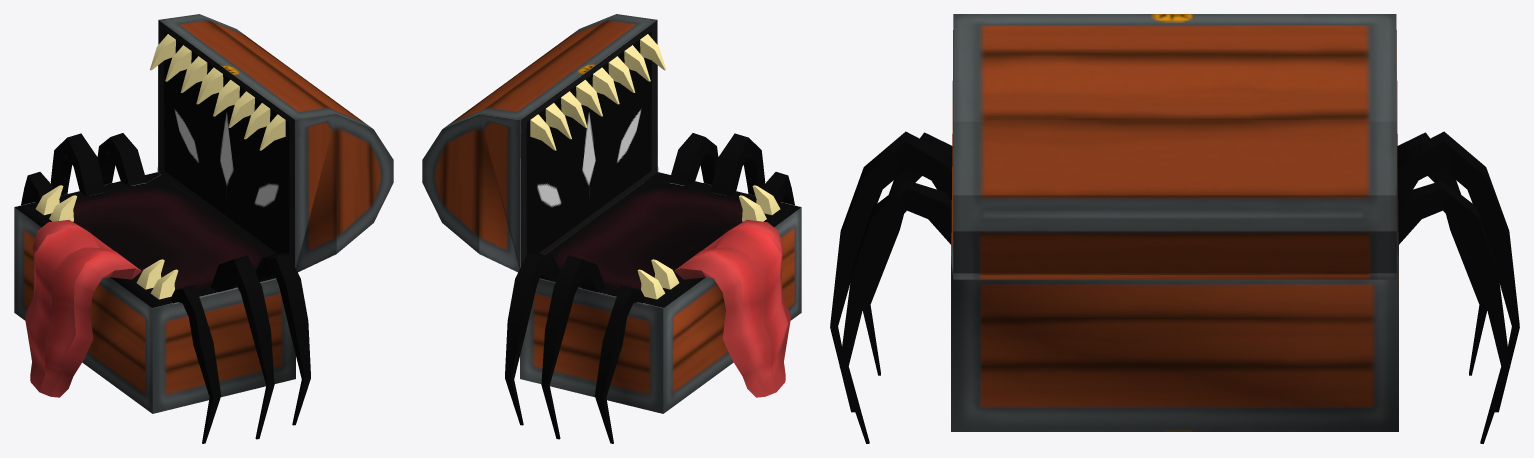
File: cofrearana_000070.obj
3 renders of one model, left to right at view 1: azimuth 30°, elevation 25°; view 2: azimuth 150°, elevation 25°; view 3: azimuth 270°, elevation 25°, orthographic. The views are drawn at different scales.
Parts seen in each view (by area): view 1: cofreArana:Mesh; view 2: cofreArana:Mesh; view 3: cofreArana:Mesh.
Boxes of the visible parts, x1=… form: cofreArana:Mesh: x1=14, y1=14, x2=393, y2=443; cofreArana:Mesh: x1=422, y1=14, x2=801, y2=443; cofreArana:Mesh: x1=830, y1=14, x2=1519, y2=443.
Size of the model in its own units: 7.55 by 7.05 by 9.76.
